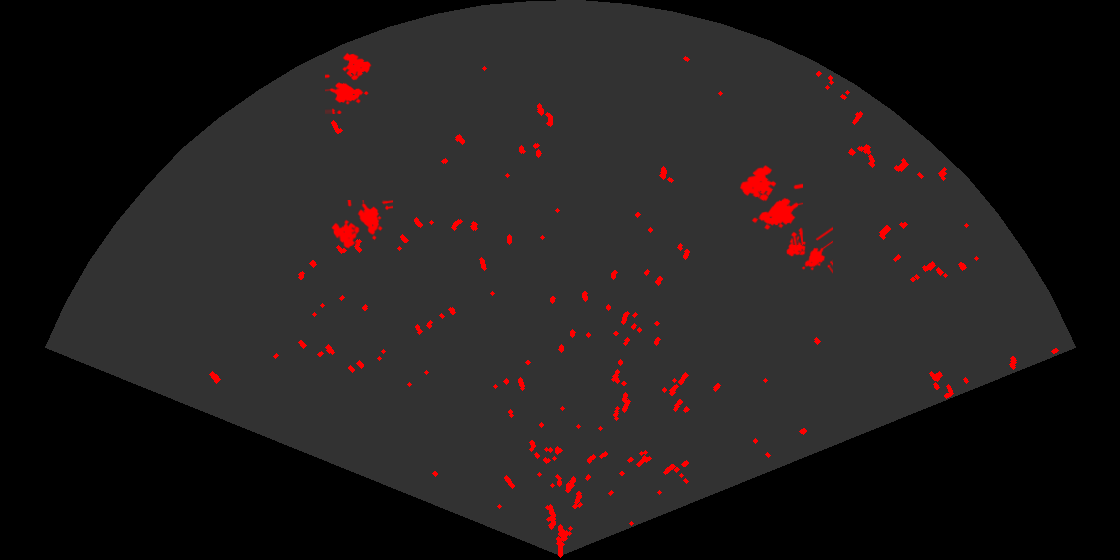cage: (738, 164, 803, 245), (330, 200, 393, 250), (325, 51, 373, 114), (785, 225, 833, 275)
